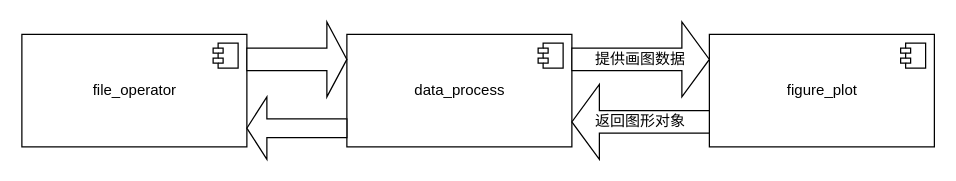
This 956x181 diagram has some shape labels left out. The centre of each missing label's shape, as x and y in pixels:
写入文件: the point at 296,127
提供数据: the point at 296,59
